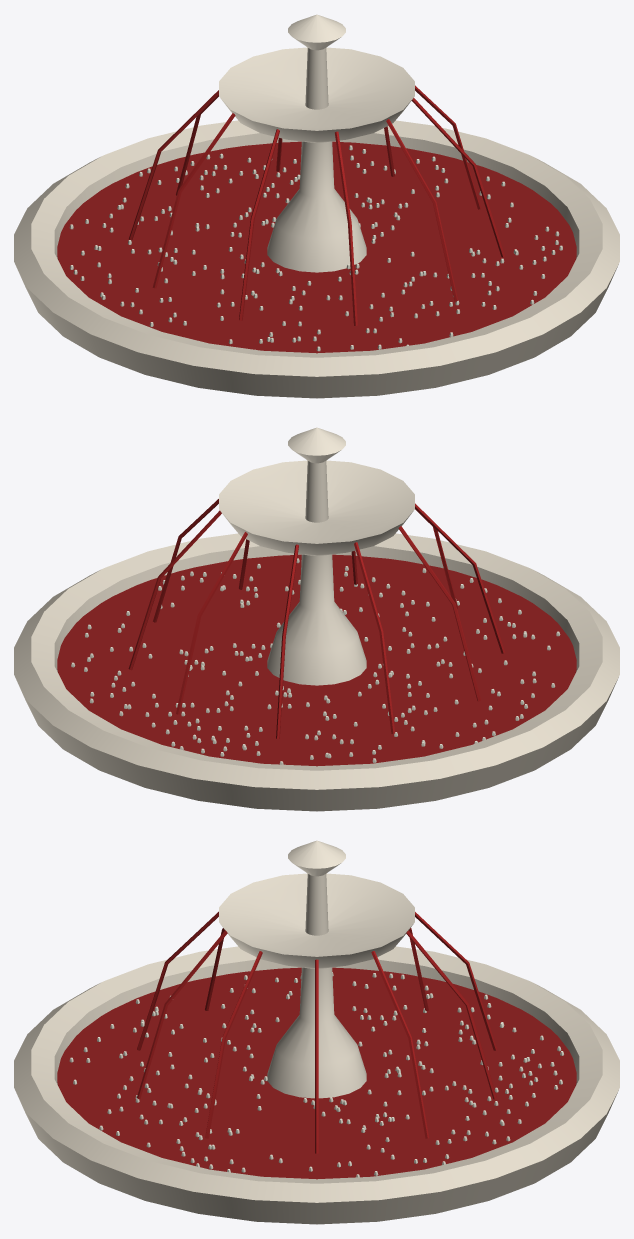
Rendered from teeth_fountain.glb.
3 renders of one model, top to bottom at view 1: azimuth 30°, elevation 25°; view 2: azimuth 150°, elevation 25°; view 3: azimuth 270°, elevation 25°, orthographic.
Visible parts, largest first — view 1: teeth_fountain; view 2: teeth_fountain; view 3: teeth_fountain.
Part boxes in pixels (left/top/right/bottom): teeth_fountain: left=14, top=14, right=619, bottom=398; teeth_fountain: left=14, top=427, right=619, bottom=811; teeth_fountain: left=14, top=840, right=619, bottom=1224.
Size of the model in its own units: 10.4 by 4.9 by 10.34.
